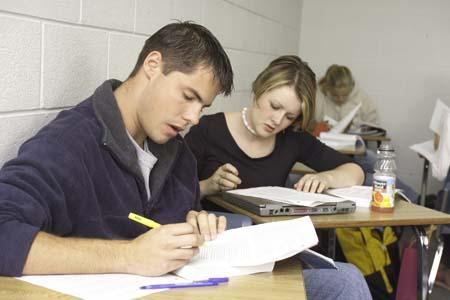person: (3, 23, 229, 278)
